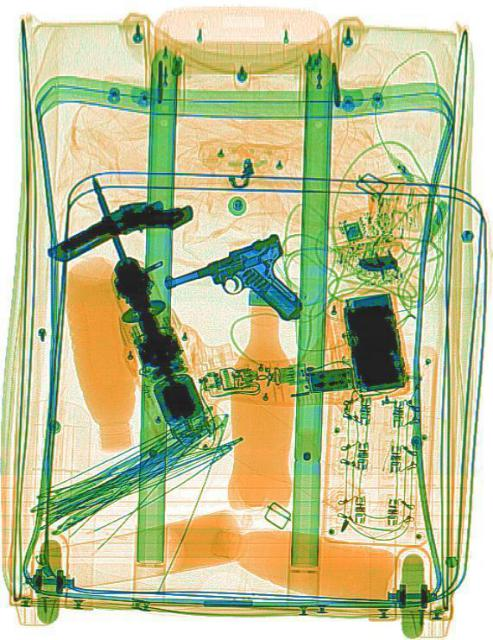Gun: (159, 228, 304, 362), (42, 172, 194, 290)
